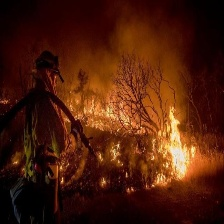fire: (155, 104, 199, 186), (84, 100, 136, 126), (98, 143, 124, 167), (97, 176, 110, 189), (60, 174, 66, 186), (125, 187, 135, 194), (11, 159, 19, 166)
smoke: (25, 6, 199, 102)
